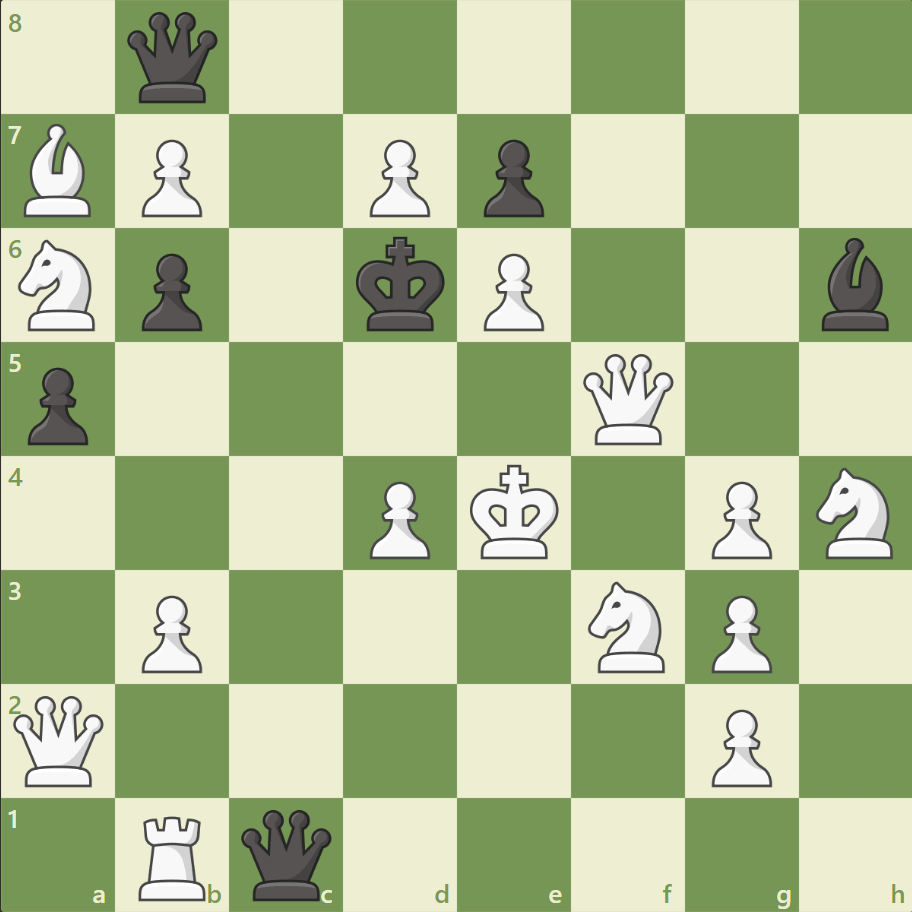B: (17, 120, 101, 222)
K: (465, 458, 565, 566)
N: (11, 234, 108, 337), (806, 461, 903, 564), (579, 575, 676, 677)
P: (133, 132, 208, 223), (474, 246, 549, 337), (701, 473, 776, 564), (133, 586, 208, 677), (701, 586, 776, 677), (701, 700, 776, 791), (361, 132, 435, 223), (361, 473, 435, 564)
Q: (578, 349, 677, 449), (10, 690, 109, 789)
R: (133, 806, 215, 904)
b: (812, 233, 896, 336)
k: (351, 231, 451, 339)
p: (474, 132, 549, 223), (133, 246, 208, 337), (20, 359, 95, 450)
q: (124, 9, 223, 108), (237, 804, 336, 903)
